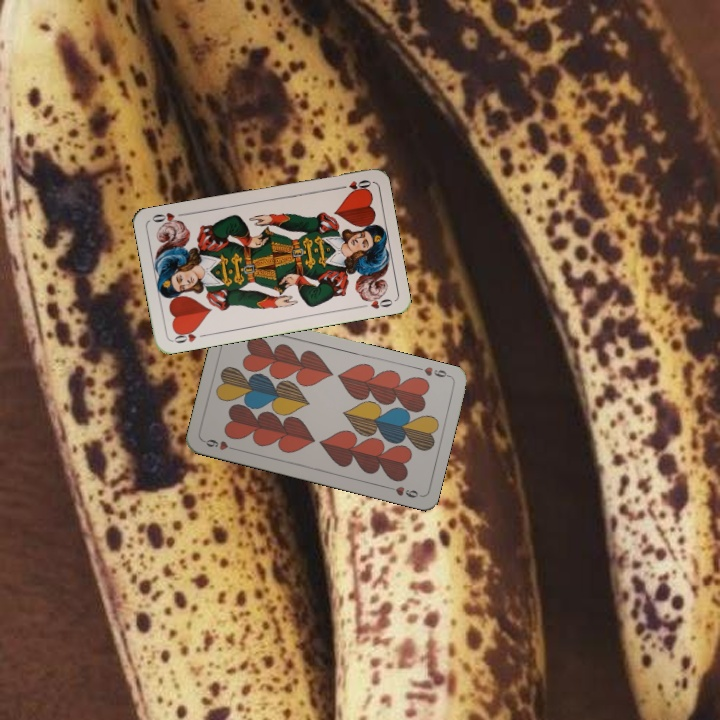H9: (200, 435, 240, 453), (420, 362, 453, 380)
HO: (169, 325, 209, 346), (333, 176, 374, 195)
